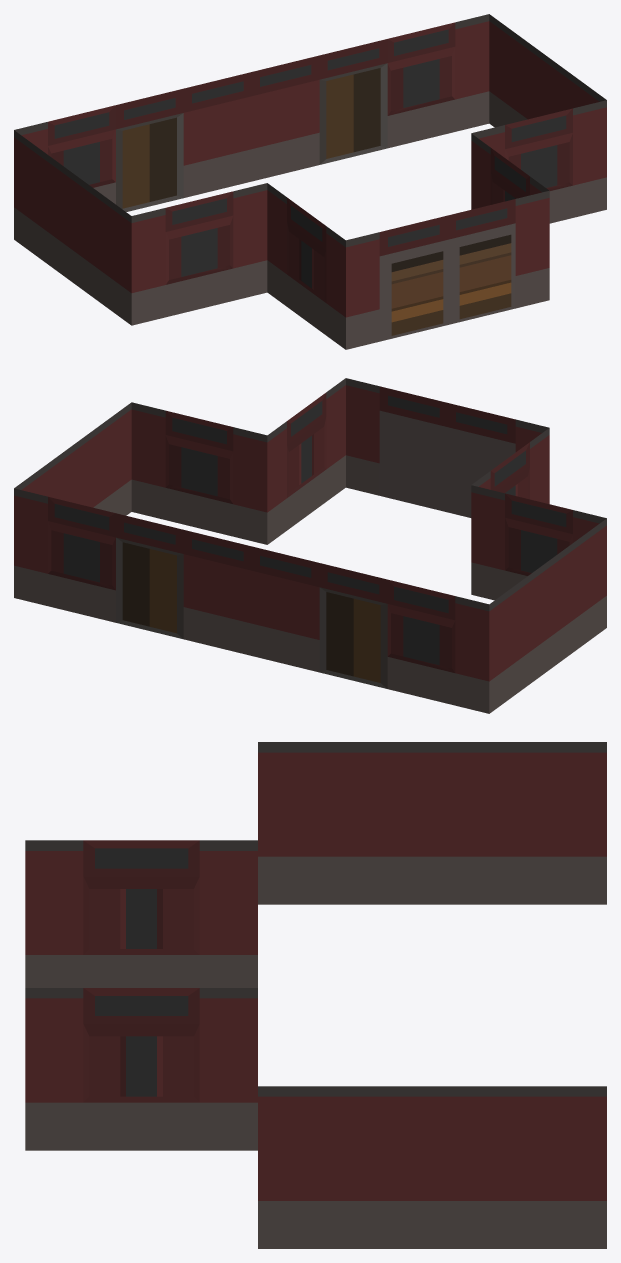
The model's file is BuildingA-T_ALOD2.fbx.
3 renders of one model, top to bottom at view 1: azimuth 30°, elevation 25°; view 2: azimuth 150°, elevation 25°; view 3: azimuth 270°, elevation 25°, orthographic. The views are drawn at different scales.
Visible parts, largest first — view 1: BuildingA-T_ALOD2; view 2: BuildingA-T_ALOD2; view 3: BuildingA-T_ALOD2.
Boxes of the visible parts, x1,y1,x2,y2 form: BuildingA-T_ALOD2: (14,14,606,349); BuildingA-T_ALOD2: (14,378,606,713); BuildingA-T_ALOD2: (25,742,606,1248).
Size of the model in its own units: 1750 by 386 by 1274.
